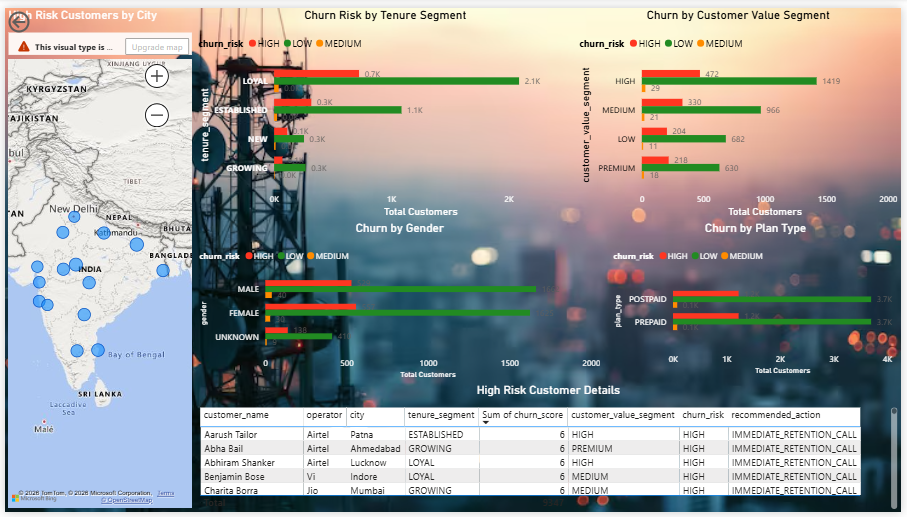

This screenshot's page, from the dashboard's own definition file:
{"tool":"powerbi","page":{"name":"Customer Analysis","canvas":[1280,720],"ordinal":1},"visuals":[{"type":"map","title":"High Risk Customers by City","fields":{"Category":["dim_customer.city"],"Size":["fact_churn.High Risk"]},"box":[0,0,272,720],"z":0},{"type":"clusteredBarChart","title":"Churn Risk by Tenure Segment","fields":{"Category":["dim_customer.tenure_segment"],"Series":["dim_customer.churn_risk"],"Y":["fact_churn.Total Customers"]},"box":[272,0,544,304],"z":1000},{"type":"clusteredBarChart","title":"Churn by Customer Value Segment","fields":{"Category":["dim_customer.customer_value_segment"],"Series":["dim_customer.churn_risk"],"Y":["fact_churn.Total Customers"]},"box":[816,0,464,304],"z":2000},{"type":"clusteredBarChart","title":"Churn by Gender","fields":{"Category":["dim_customer.gender"],"Series":["dim_customer.churn_risk"],"Y":["fact_churn.Total Customers"]},"box":[273,304.6,582.4,230.4],"z":3000},{"type":"clusteredBarChart","title":"Churn by Plan Type","fields":{"Category":["dim_plan.plan_type"],"Series":["dim_customer.churn_risk"],"Y":["fact_churn.Total Customers"]},"box":[864,304,416,224],"z":4000},{"type":"tableEx","title":"High Risk Customer Details","fields":{"Values":["dim_customer.customer_name","dim_customer.operator","dim_customer.city","dim_customer.tenure_segment","Sum(fact_churn.churn_score)","dim_customer.customer_value_segment","dim_customer.churn_risk","dim_customer.recommended_action"]},"box":[273,535,1007,184.7],"z":5000},{"type":"actionButton","box":[0,0,100,40],"z":6000}]}

Visuals, with their boxes in screenshot pixels (x1, y1, x2, y2), scaled from the page's 1280x720 canvas onto the 907x517 screenshot:
"High Risk Customers by City" map: <region>0, 0, 193, 516</region>
"Churn Risk by Tenure Segment" clusteredBarChart: <region>193, 0, 578, 218</region>
"Churn by Customer Value Segment" clusteredBarChart: <region>578, 0, 906, 218</region>
"Churn by Gender" clusteredBarChart: <region>193, 219, 606, 384</region>
"Churn by Plan Type" clusteredBarChart: <region>612, 218, 906, 379</region>
"High Risk Customer Details" tableEx: <region>193, 384, 906, 516</region>
actionButton: <region>0, 0, 71, 29</region>
